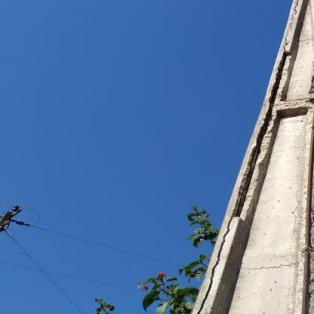Poste: (182, 0, 314, 314)
